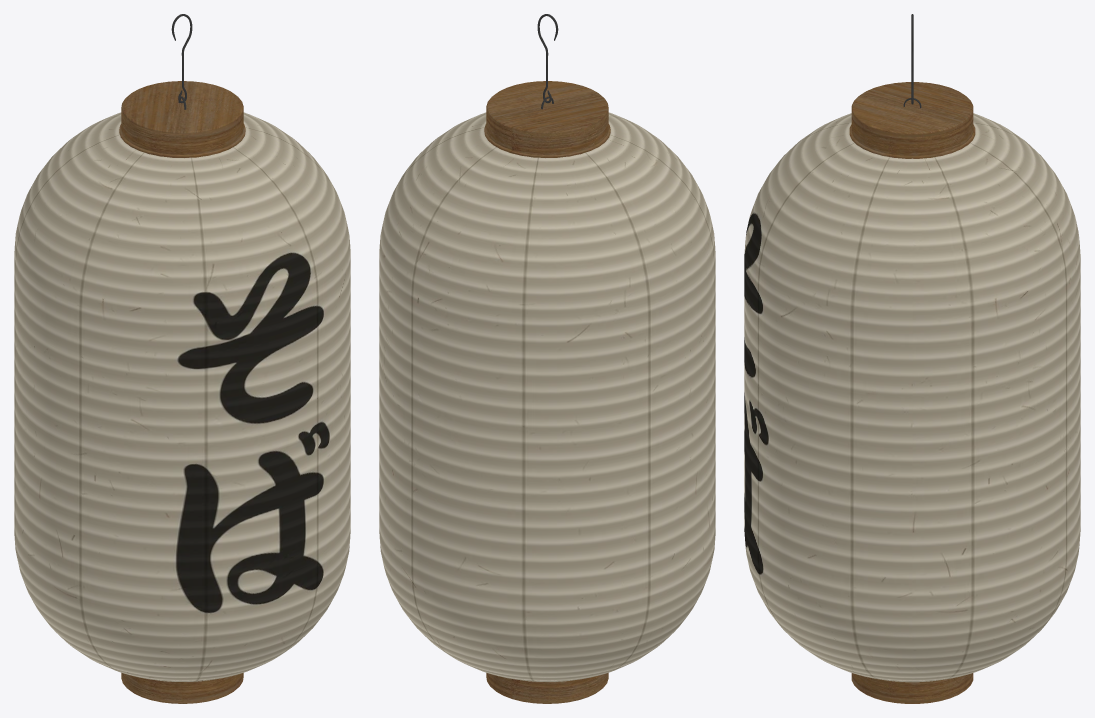
Rendered from paper-lantern-soba.glb.
The picture shows the model from 3 angles, left to right: view 1: azimuth 30°, elevation 25°; view 2: azimuth 150°, elevation 25°; view 3: azimuth 270°, elevation 25°; orthographic projection.
Parts seen in each view (by area): view 1: paper lantern; view 2: paper lantern; view 3: paper lantern.
Boxes of the visible parts, x1,y1,x2,y2 form: paper lantern: (14, 14, 350, 703); paper lantern: (379, 14, 715, 703); paper lantern: (744, 14, 1080, 703).
Size of the model in its own units: 0.3637 by 0.7924 by 0.3637.
1 material, 1 textured.
